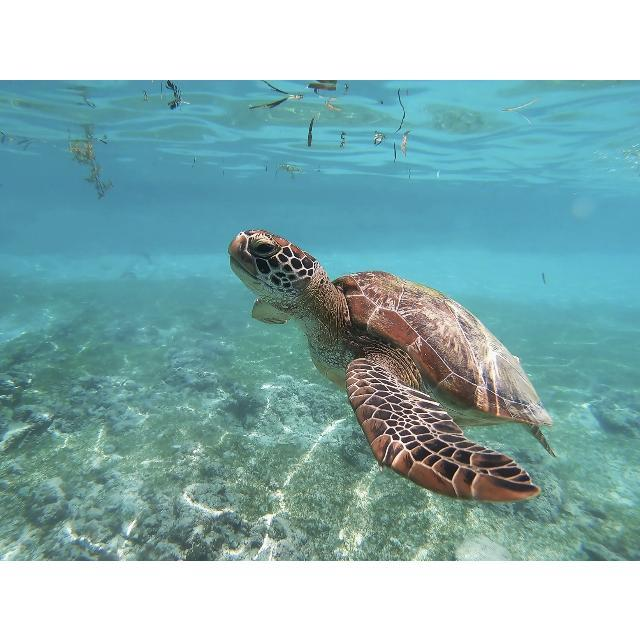penguin: (227, 227, 558, 505)
